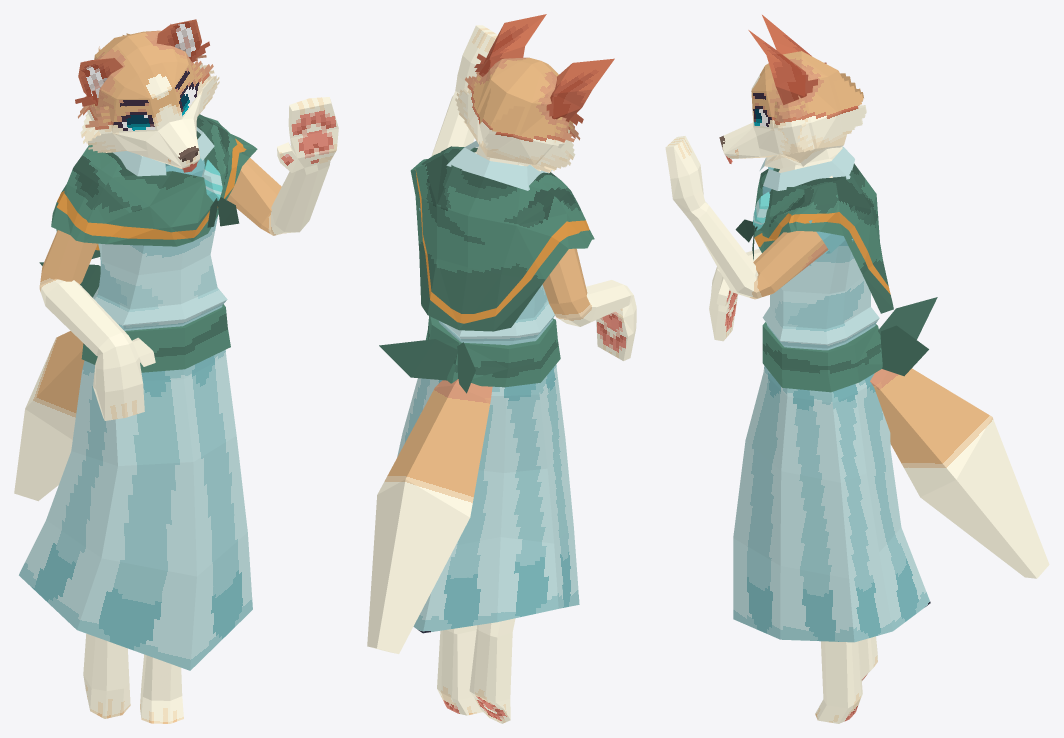
The model's file is fig kani.glb.
3 views of the same model, side by side, from view 1: azimuth 30°, elevation 25°; view 2: azimuth 150°, elevation 25°; view 3: azimuth 270°, elevation 25° (orthographic). The views are drawn at different scales.
Visible parts, largest first — view 1: dress, body, head.006, accs.001, tail, accs, accs.003, accs.002; view 2: dress, accs.001, tail, body, head.006, accs; view 3: dress, tail, body, head.006, accs.001, accs.
Boxes of the visible parts, bbox=[...] form: dress: bbox=[19, 127, 252, 670]; body: bbox=[39, 97, 338, 723]; head.006: bbox=[75, 19, 219, 172]; accs.001: bbox=[51, 114, 257, 258]; tail: bbox=[14, 331, 84, 501]; accs: bbox=[39, 262, 230, 372]; accs.003: bbox=[207, 197, 239, 227]; accs.002: bbox=[201, 159, 222, 201]; dress: bbox=[397, 140, 579, 633]; accs.001: bbox=[410, 146, 594, 331]; tail: bbox=[367, 379, 492, 653]; body: bbox=[431, 25, 636, 723]; head.006: bbox=[455, 14, 614, 172]; accs: bbox=[379, 316, 560, 393]; dress: bbox=[733, 146, 930, 642]; tail: bbox=[870, 368, 1049, 578]; body: bbox=[665, 136, 877, 723]; head.006: bbox=[719, 15, 866, 168]; accs.001: bbox=[753, 163, 893, 313]; accs: bbox=[762, 297, 937, 392].
Size of the model in its own units: 1.05 by 3.25 by 1.69.
Materials: 5 (5 with a texture image).
